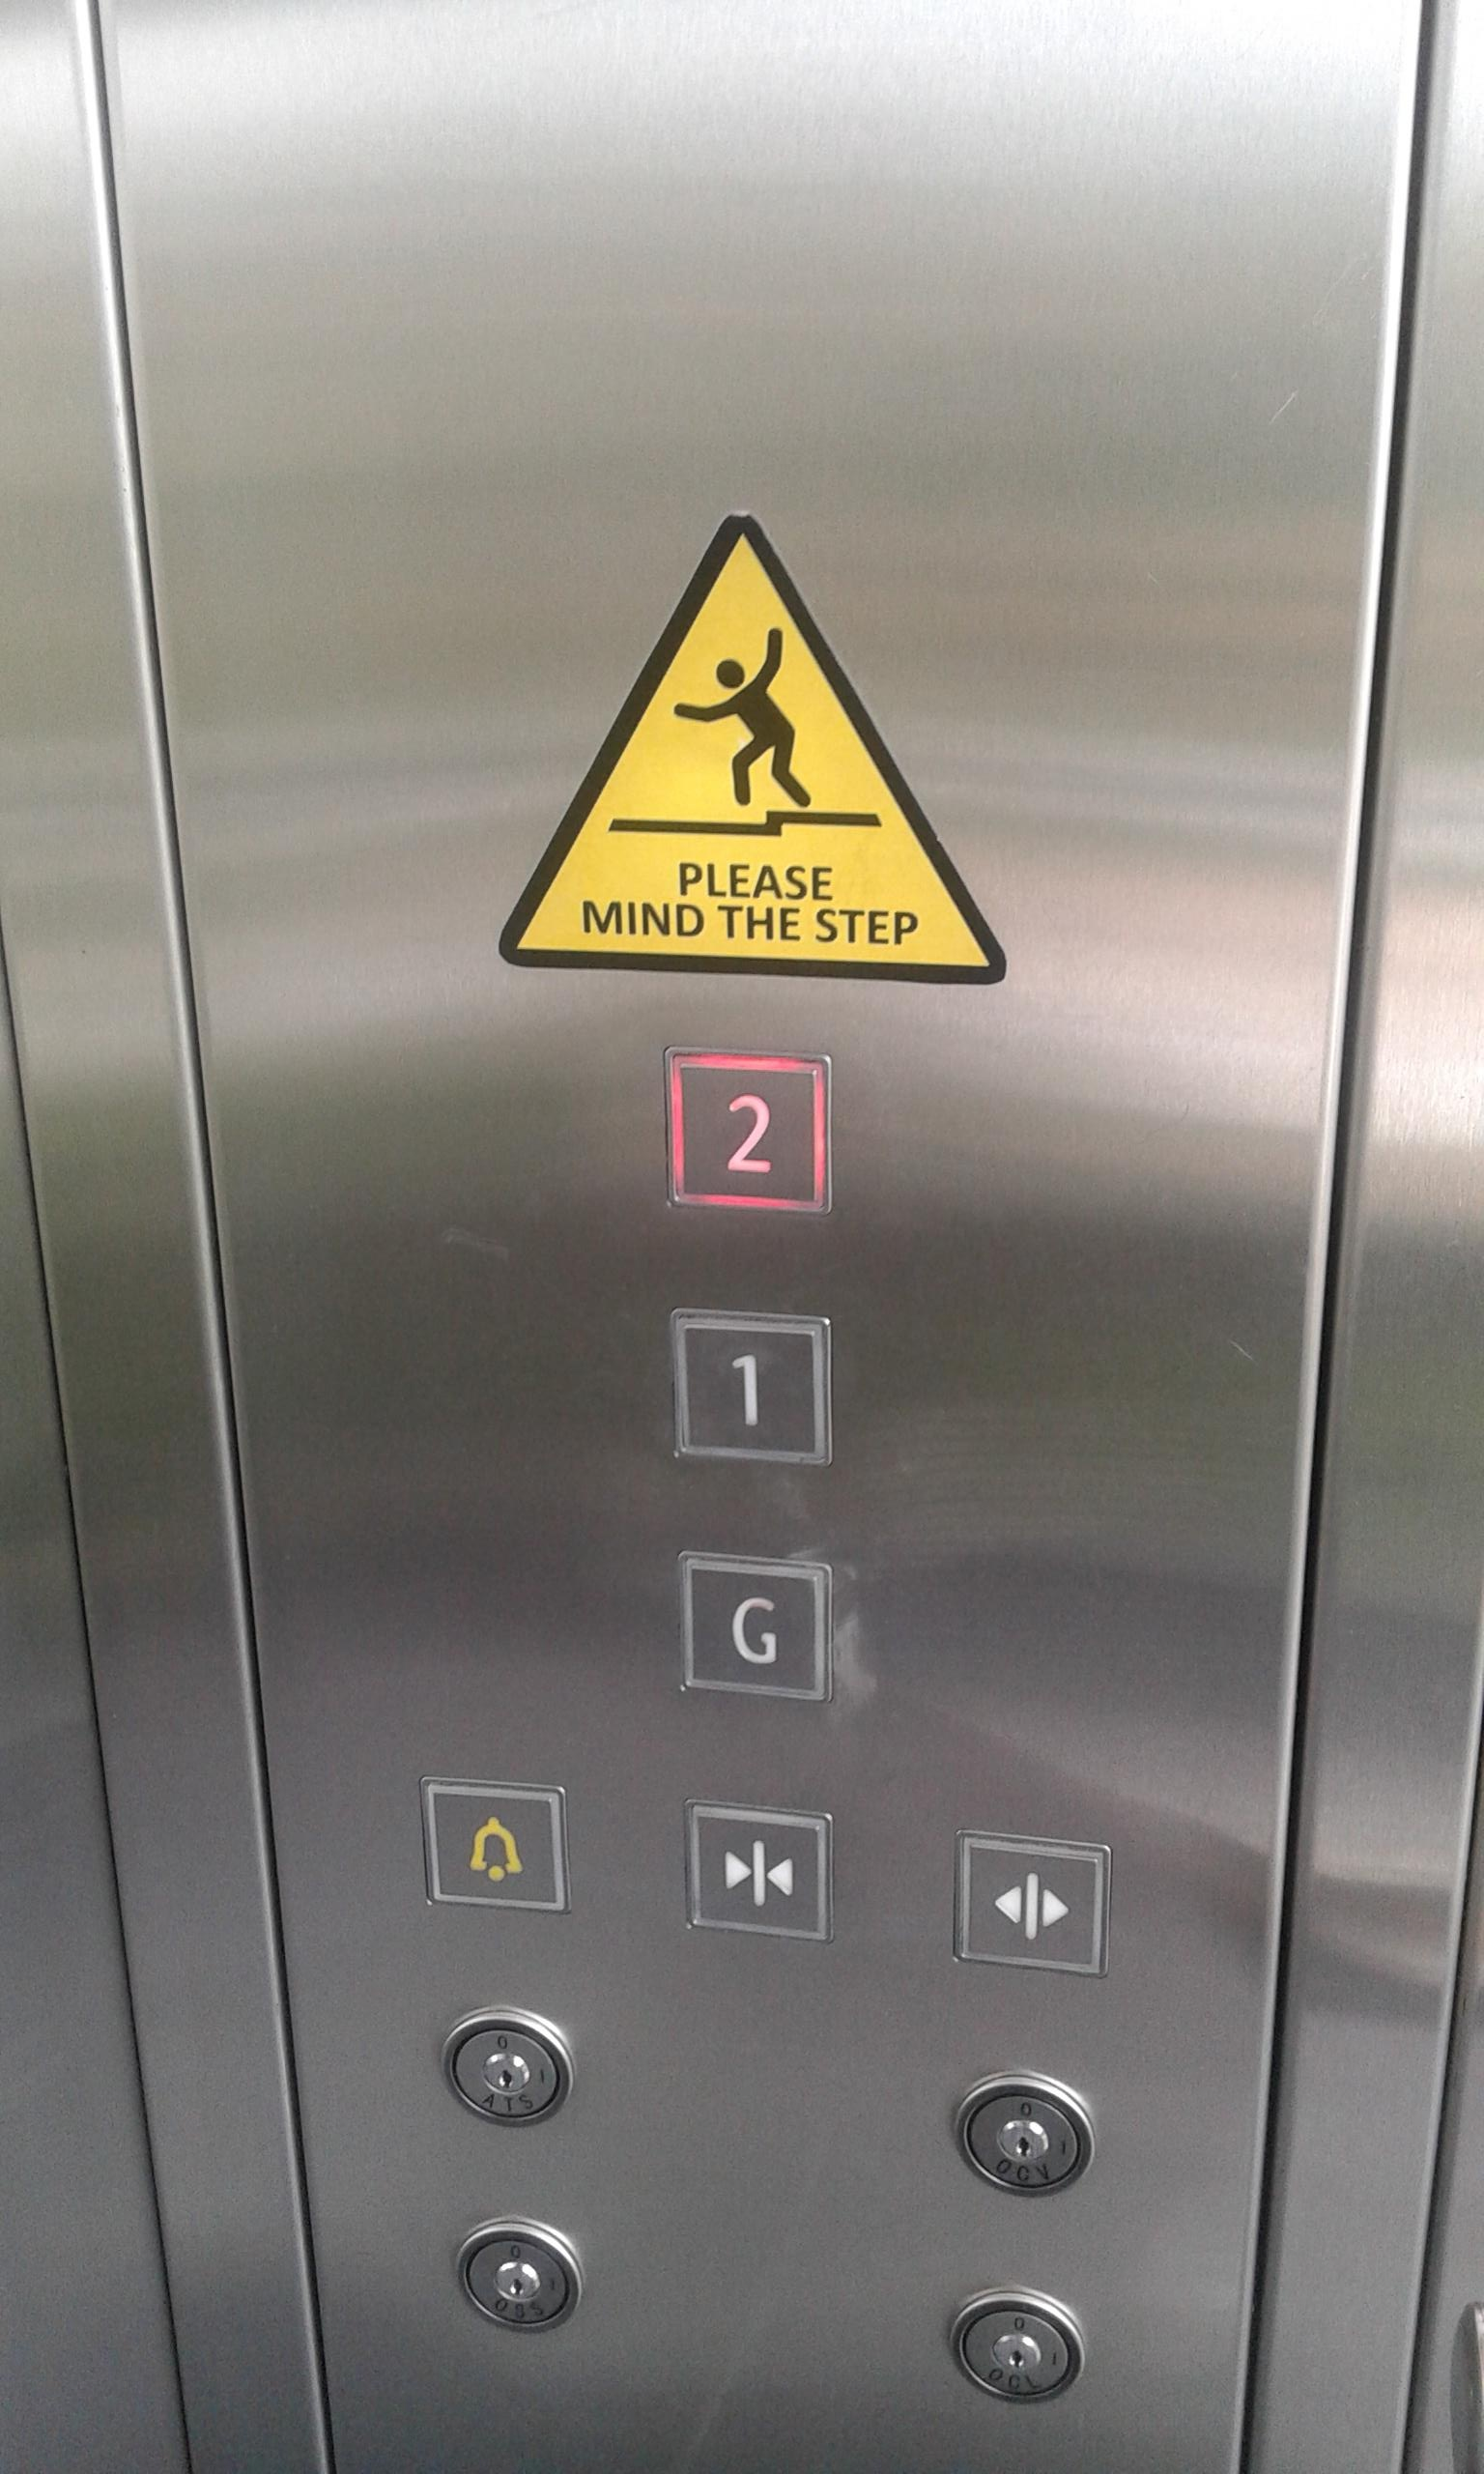1: (661, 1301, 841, 1479)
2: (654, 1034, 836, 1221)
G: (664, 1541, 841, 1712)
alarm: (408, 1765, 579, 1921)
close: (673, 1788, 841, 1953)
keyhole: (947, 2060, 1104, 2200), (428, 1995, 583, 2135), (442, 2202, 597, 2341), (947, 2281, 1090, 2416)
open: (945, 1818, 1117, 1988)
